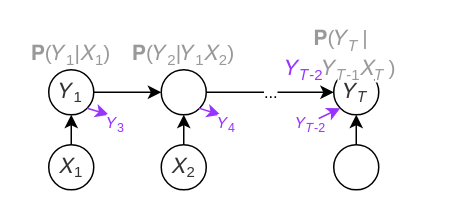
Image size: 449x216. Some labels were removed from this diagram. Each missing label, with the centre of its shape:
"𝑋 𝑇" goes at (x=355, y=166).
"𝑌 2" goes at (x=183, y=91).
